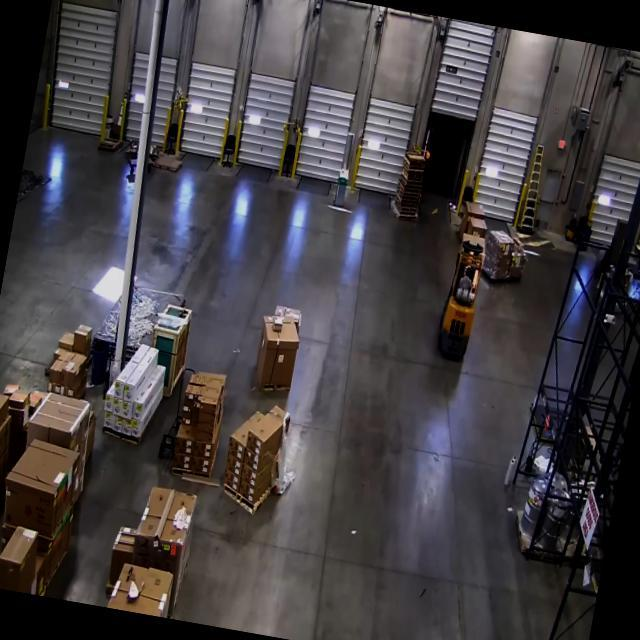driver: (458, 263, 477, 291)
forklift: (433, 238, 488, 364)
